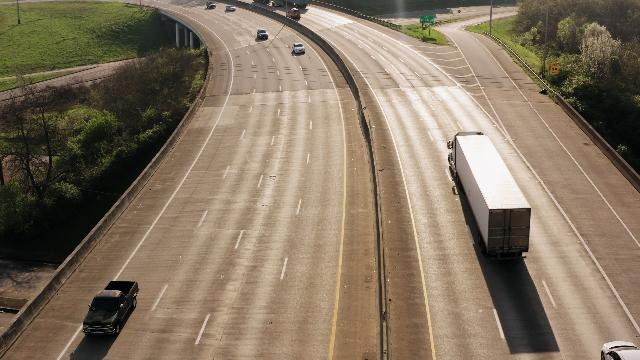car: (291, 40, 307, 57), (256, 28, 268, 42), (287, 9, 301, 19), (225, 4, 237, 11), (207, 2, 217, 8)
pickup-truck: (81, 279, 140, 339)
truck: (449, 128, 531, 256)
